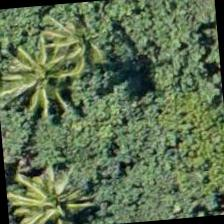Kelapa_Sawit: (25, 0, 123, 87), (0, 32, 85, 130), (4, 160, 90, 223)
